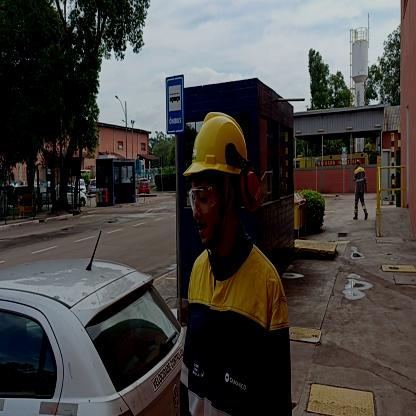C_eletrica: (184, 249, 290, 416)
Capacete: (188, 111, 247, 173)
